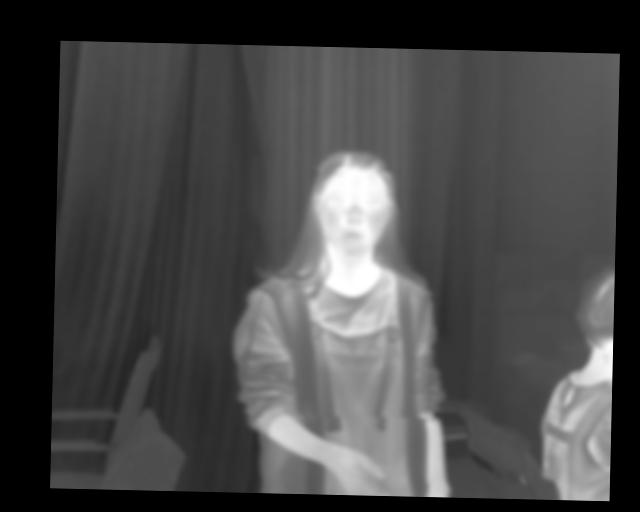face: (226, 173, 304, 263), (370, 185, 446, 270)
